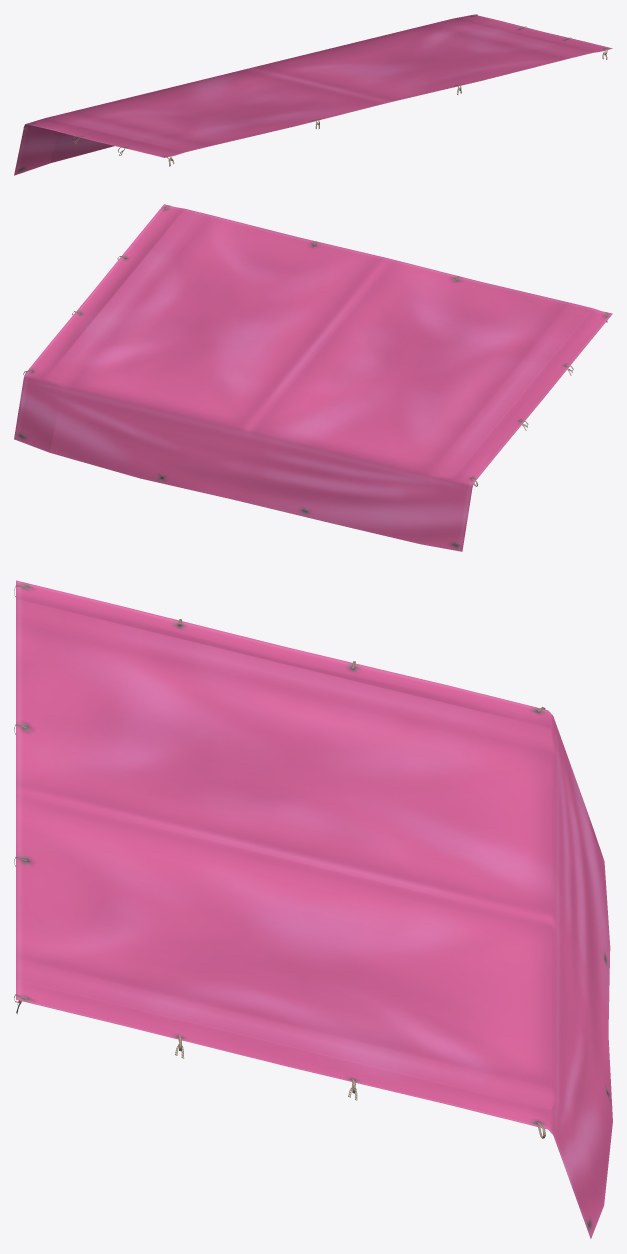
Rendered from jsf_Ceiling_s04_c06_t02.fbx.
The picture shows the model from 3 angles, top to bottom: view 1: azimuth 30°, elevation 25°; view 2: azimuth 150°, elevation 25°; view 3: azimuth 270°, elevation 25°; orthographic projection. The views are drawn at different scales.
Parts seen in each view (by area): view 1: jsf_Ceiling_s04_c06_t02; view 2: jsf_Ceiling_s04_c06_t02; view 3: jsf_Ceiling_s04_c06_t02.
Boxes of the visible parts, x1=… form: jsf_Ceiling_s04_c06_t02: x1=14, y1=14, x2=612, y2=175; jsf_Ceiling_s04_c06_t02: x1=14, y1=204, x2=612, y2=551; jsf_Ceiling_s04_c06_t02: x1=14, y1=580, x2=612, y2=1238.
Size of the model in its own units: 394 by 106 by 234.
